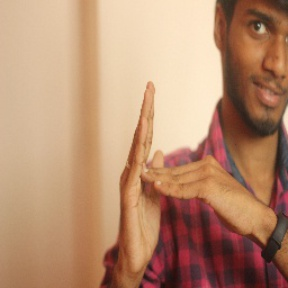Z: (114, 73, 258, 268)
